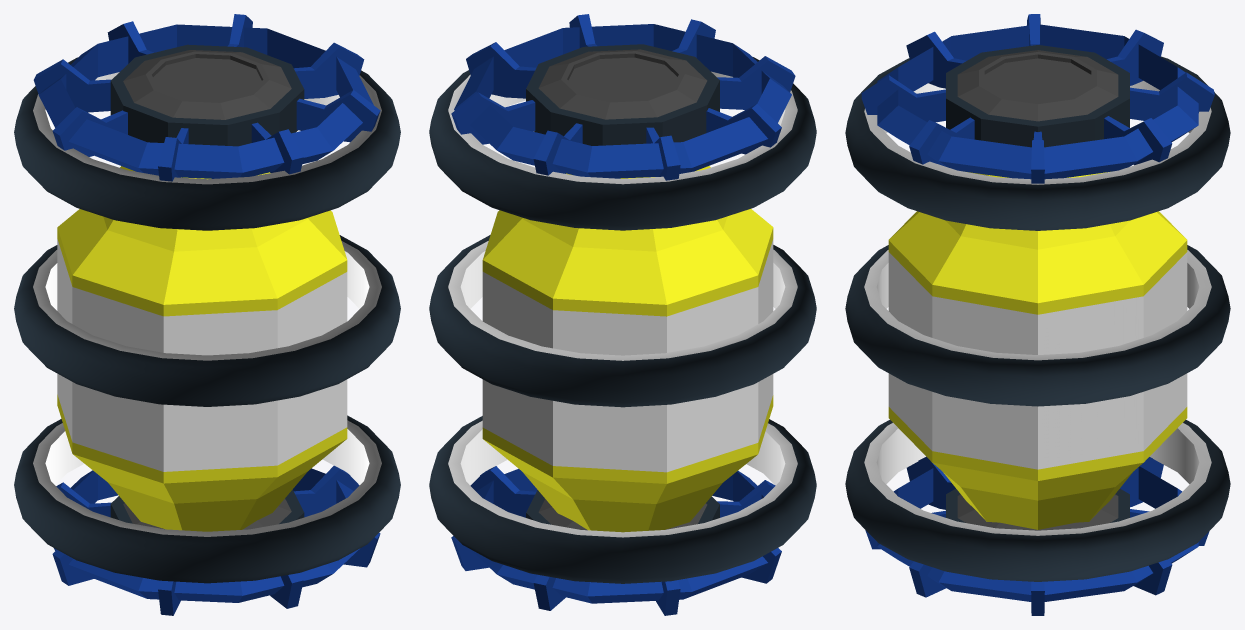
The model's file is Pico_Core2.glb.
3 views of the same model, side by side, from view 1: azimuth 30°, elevation 25°; view 2: azimuth 150°, elevation 25°; view 3: azimuth 270°, elevation 25° (orthographic).
Parts seen in each view (by area): view 1: mergedBlocks(Clone); view 2: mergedBlocks(Clone); view 3: mergedBlocks(Clone).
Part boxes in pixels (<box>): mergedBlocks(Clone): <box>14,14,400,615</box>; mergedBlocks(Clone): <box>429,14,816,615</box>; mergedBlocks(Clone): <box>845,14,1230,615</box>.
Bounding box in the file's own units: 0.9945 × 1.34 × 0.9945.
Materials: 1 (1 with a texture image).
